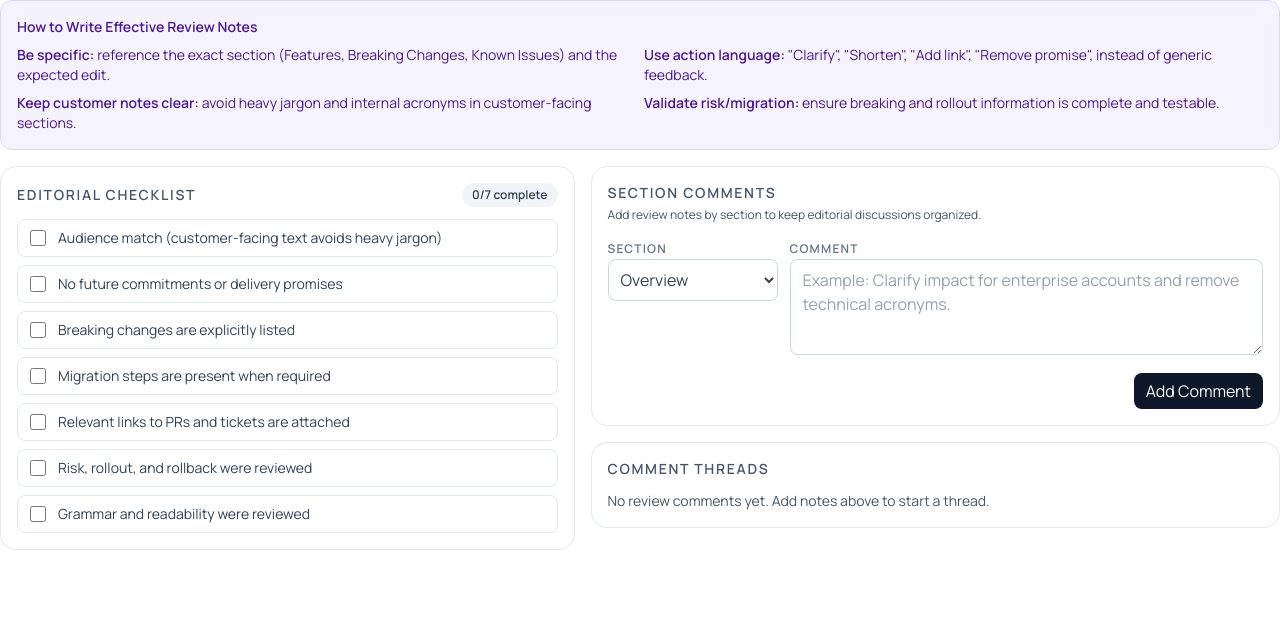
Scenario: ReleaseReviewTab › adds a comment for the selected section
Select "Features" in the dropdown labelled "Section" at (692, 280), box [608, 259, 778, 301]
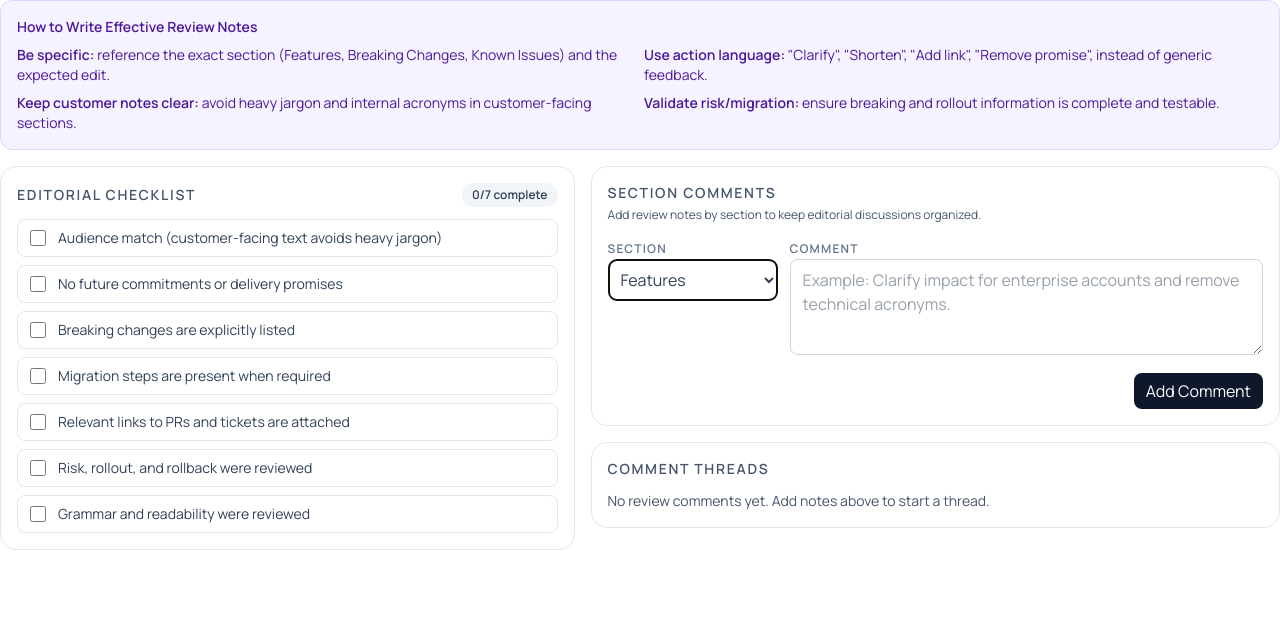
Type "Clarify customer impact in plain language." into the text box labelled "Comment" at (1026, 307), box [790, 259, 1263, 355]
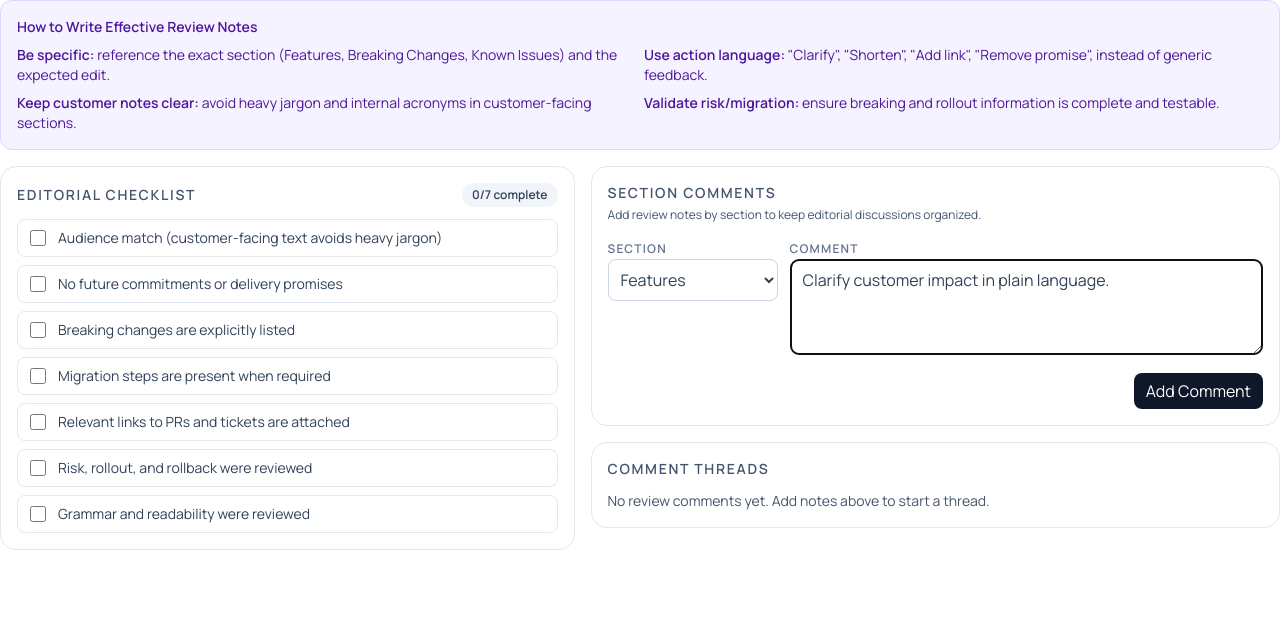
Click the button "Add Comment" at (1198, 391), box [1134, 373, 1263, 409]
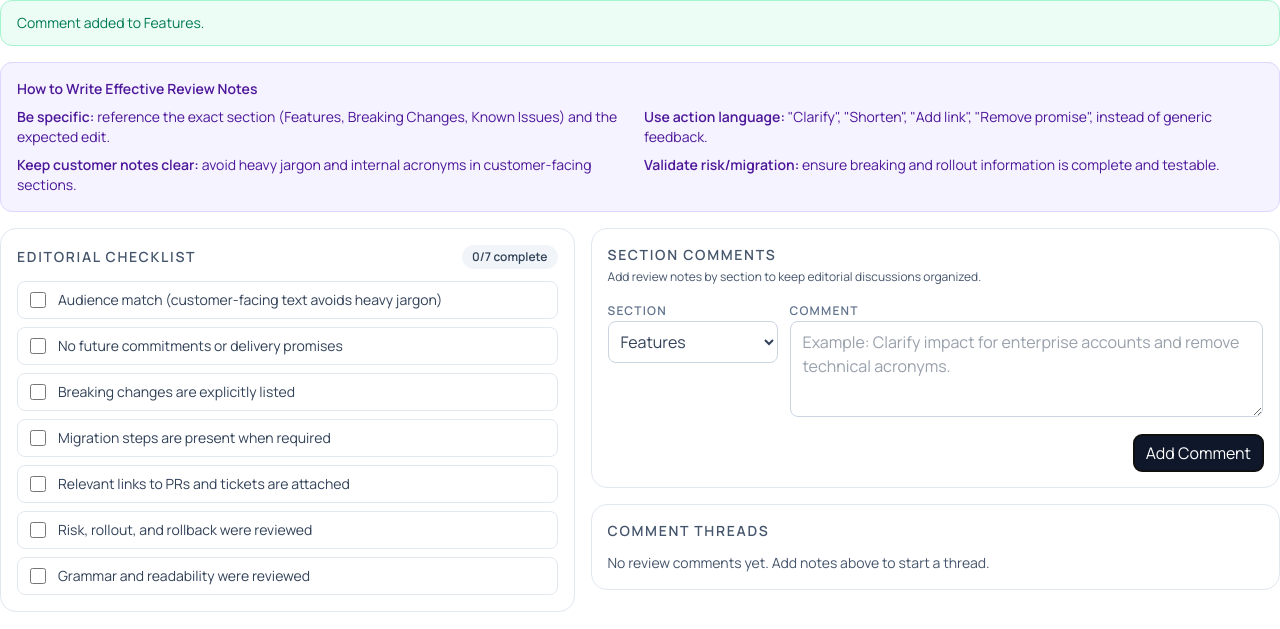
Check: the text "Comment added to Features." is shown, box [0, 0, 1279, 46]
